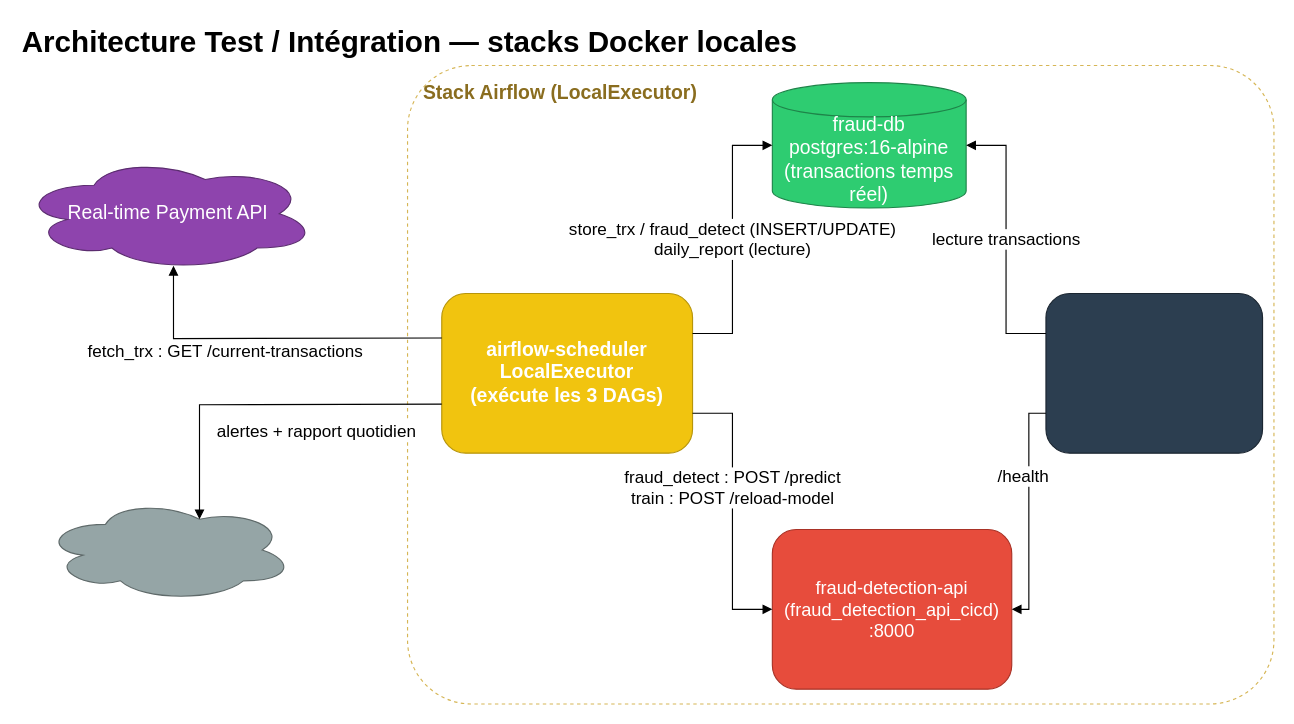
The diagram is 1294 pixels wide and 724 high, and some of its shapes have lost their labels. The shapes that lost their labels are listed below. From the top down, each one's centre as x and y in pixels, then its label:
At (x=1154, y=372): "dashboard (fraud_dashboard_test) :8501".
At (x=168, y=549): "SMTP Gmail".
